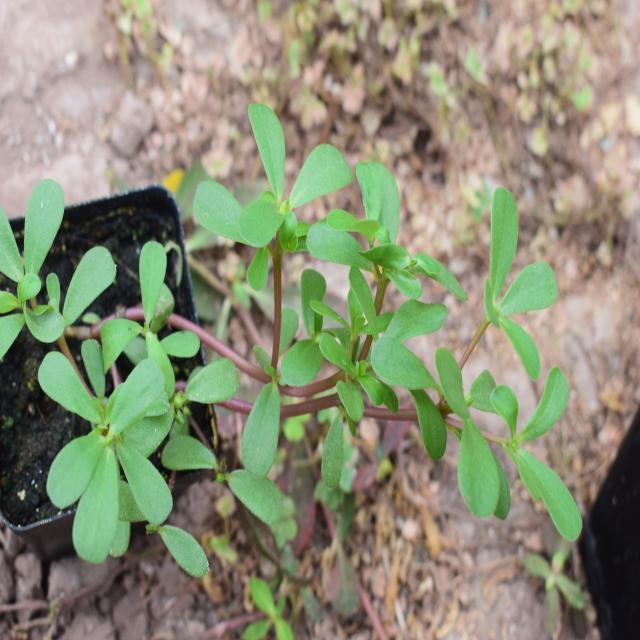purslane: (0, 100, 603, 566)
